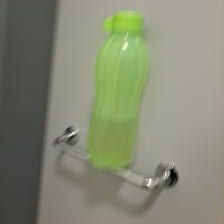bottle: (83, 10, 153, 169)
